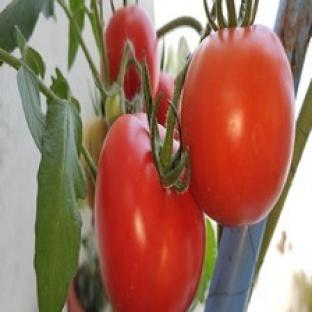Tomato: (182, 26, 293, 225), (95, 115, 204, 311), (105, 5, 160, 93), (83, 116, 108, 165), (158, 72, 174, 125), (67, 280, 83, 311)
